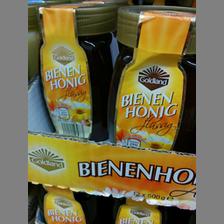honey: (112, 5, 197, 154), (38, 2, 117, 142)
